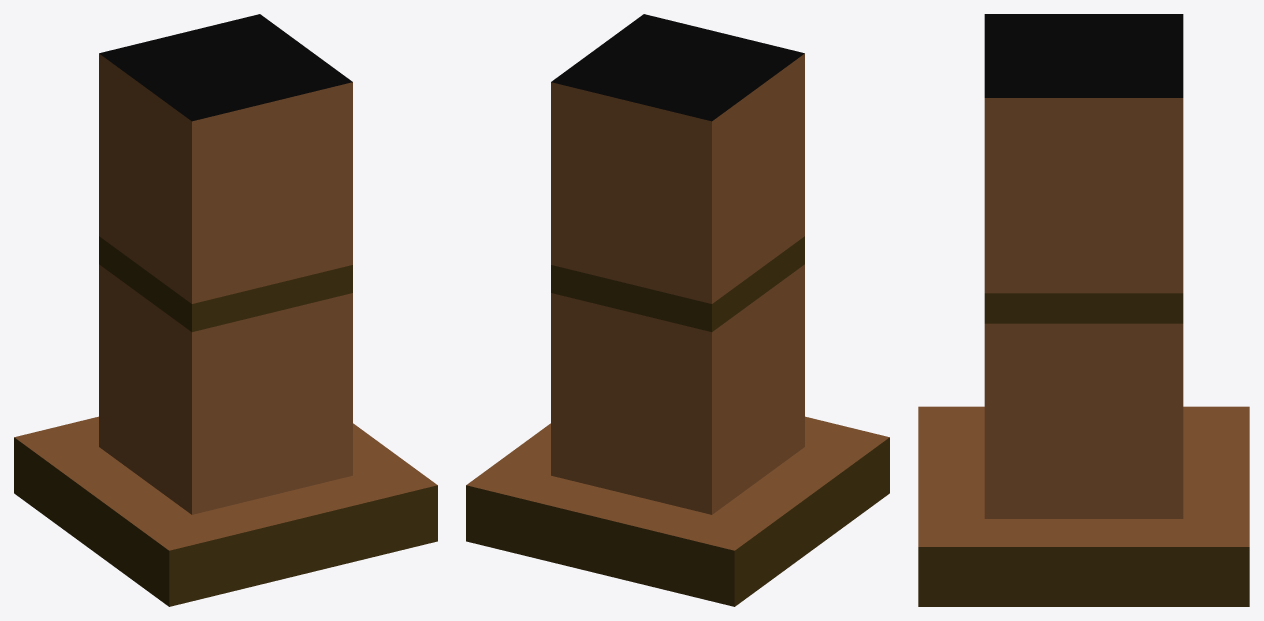
File: pillar.FBX
3 views of the same model, side by side, from view 1: azimuth 30°, elevation 25°; view 2: azimuth 150°, elevation 25°; view 3: azimuth 270°, elevation 25° (orthographic). The views are drawn at different scales.
Visible parts, largest first — view 1: pillar, Box000, Box001, Box002; view 2: pillar, Box001, Box003, Box002, Box000; view 3: pillar, Box002, Box000, Box003, Box001.
Part boxes in pixels (<box>): pillar: <box>99,14,352,514</box>; Box000: <box>138,462,437,606</box>; Box001: <box>14,424,191,583</box>; Box002: <box>353,423,406,475</box>; pillar: <box>551,14,804,514</box>; Box001: <box>681,447,858,606</box>; Box003: <box>520,475,711,593</box>; Box002: <box>466,423,550,554</box>; Box000: <box>805,416,889,515</box>; pillar: <box>984,14,1183,518</box>; Box002: <box>984,519,1249,606</box>; Box000: <box>918,406,984,606</box>; Box003: <box>1183,434,1249,518</box>; Box001: <box>1183,406,1249,434</box>.
Bounding box in the file's own units: 100 × 160 × 100.
